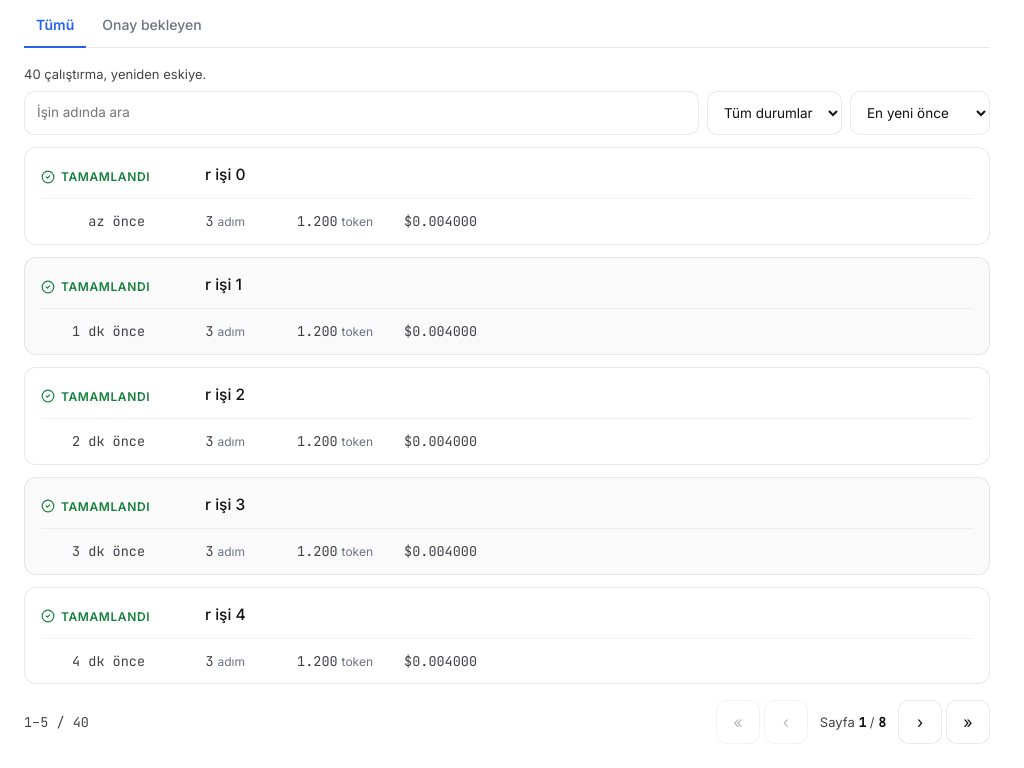
Test case: narrowing_the_list_returns_to_its_first_page
(page scrolled)
Expected: the text "r işi 0" is shown, [205,165,245,184]
Step 1. Click the button named "Son sayfa" → (968, 722), box [946,700,990,744]
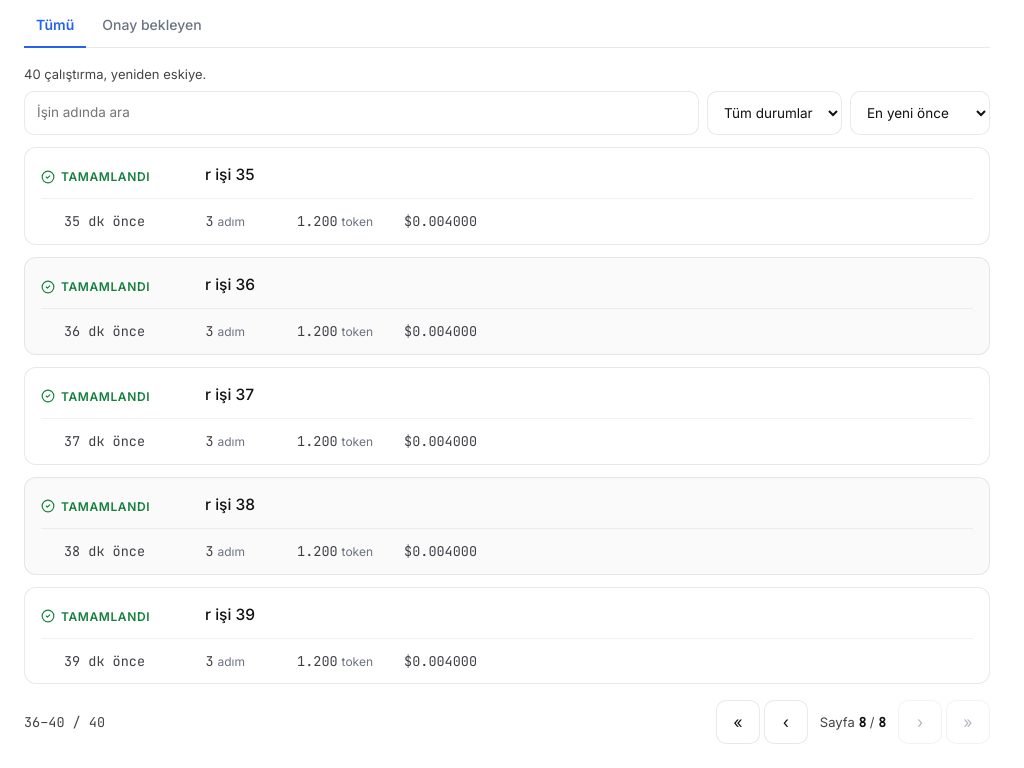
Expected: the text "36–40 / 40" is shown, [24,712,105,733]
Step 2. Type "işi 3" into the search field with placeholder "İşin adında ara" → (362, 113), box [24,91,699,135]
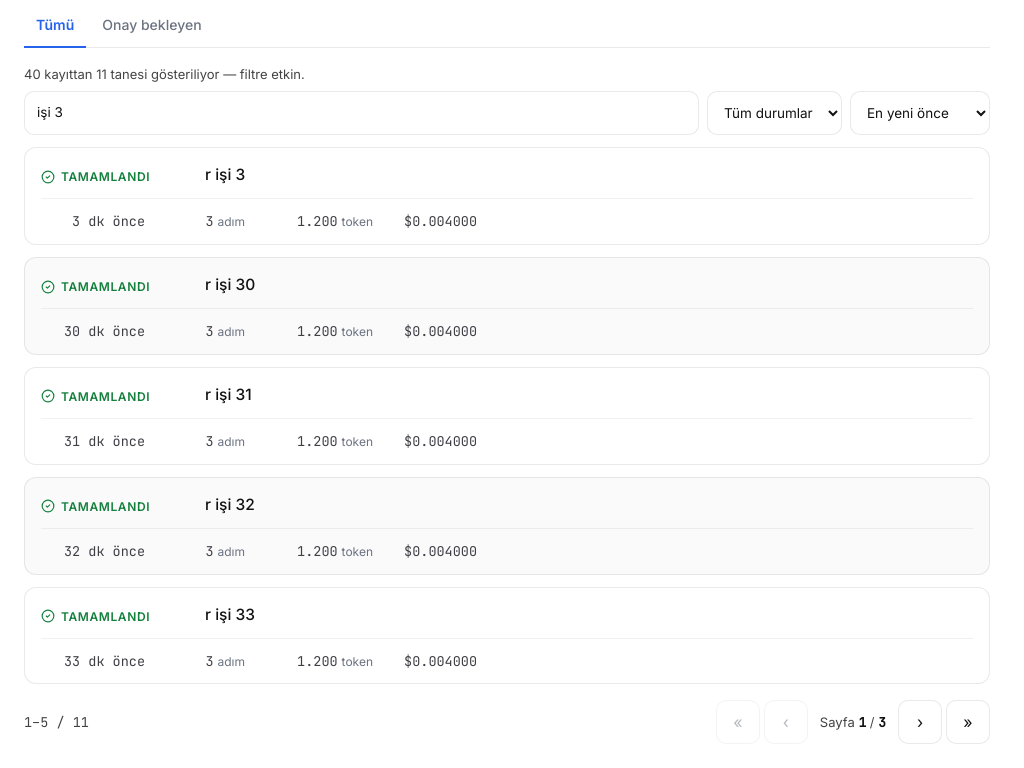
Expected: the text "r işi 3" is shown, [205,165,245,184]
Expected: the text "1–5 / 11" is shown, [24,712,89,733]
